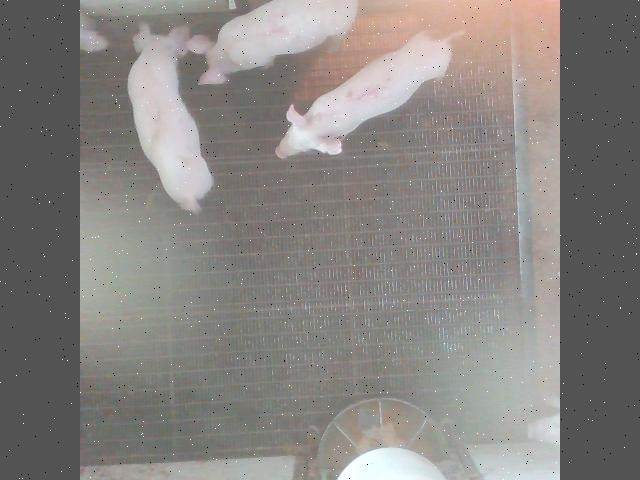pig-4: (198, 0, 357, 82)
pig-5: (276, 30, 463, 158)
